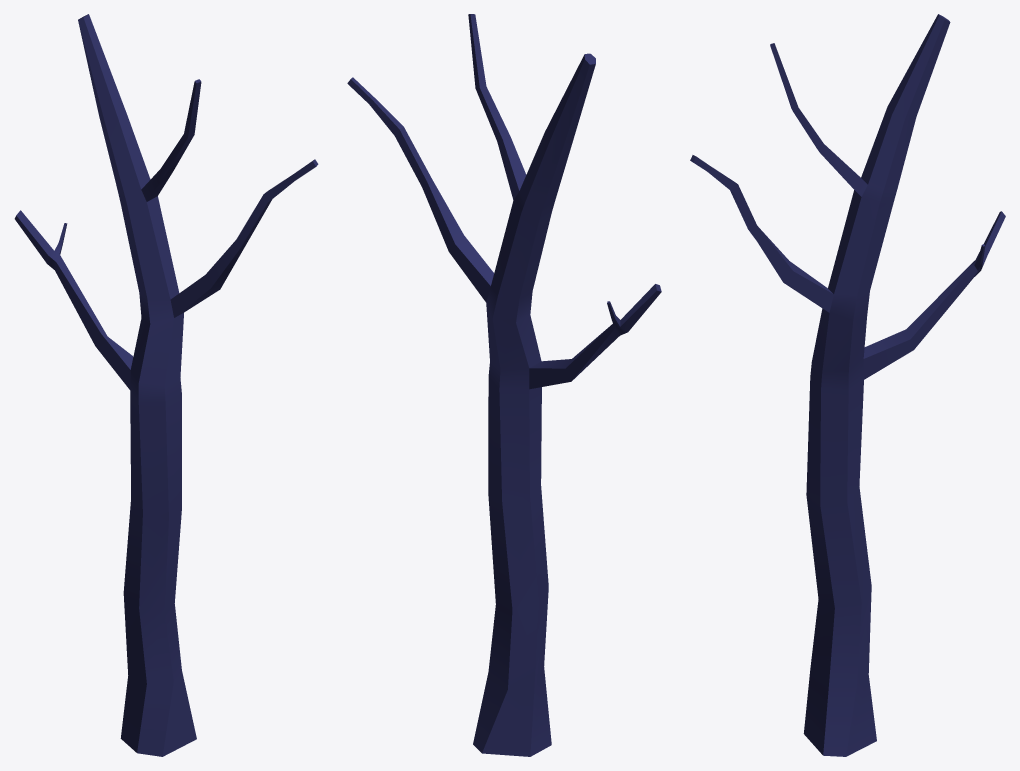
Rendered from trunk.fbx.
The picture shows the model from 3 angles, left to right: view 1: azimuth 30°, elevation 25°; view 2: azimuth 210°, elevation 25°; view 3: azimuth 270°, elevation 25°; orthographic projection. The views are drawn at different scales.
Visible parts, largest first — view 1: trunk1; view 2: trunk1; view 3: trunk1.
Boxes of the visible parts, bbox=[...] form: trunk1: bbox=[14, 14, 318, 756]; trunk1: bbox=[347, 14, 661, 756]; trunk1: bbox=[690, 14, 1005, 756].
Size of the model in its own units: 2.14 by 9.29 by 3.72.
